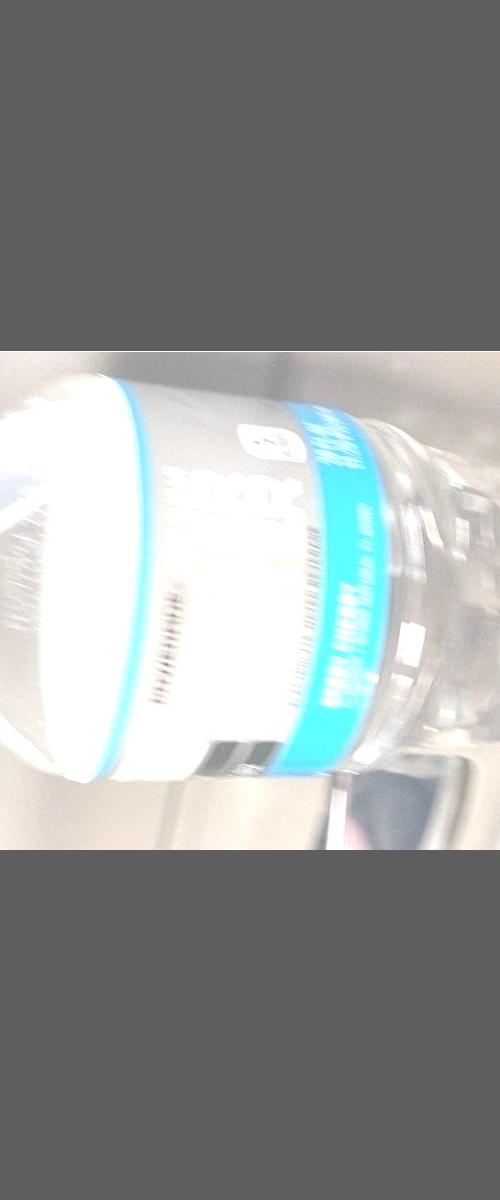bottle: (0, 350, 500, 844)
